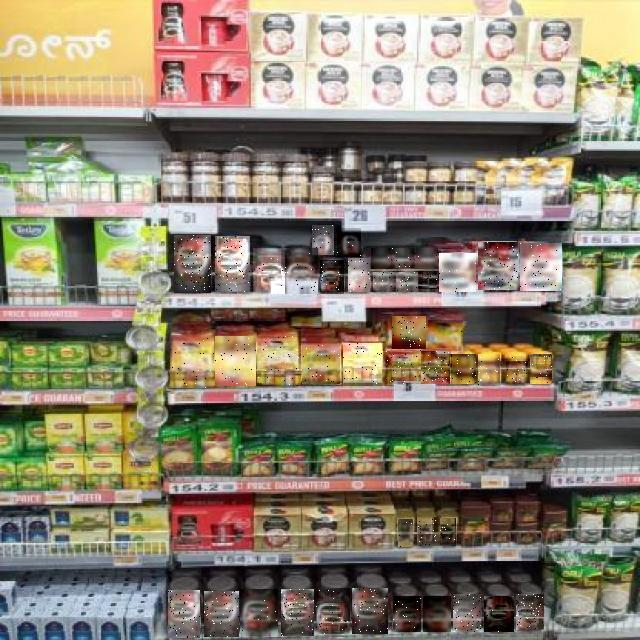Coffee: (171, 335, 215, 388), (174, 235, 211, 293), (258, 336, 299, 386), (215, 337, 256, 387), (520, 243, 562, 291), (215, 237, 250, 293), (479, 242, 519, 290), (240, 590, 278, 636), (352, 589, 388, 635), (343, 344, 382, 386), (204, 591, 239, 637), (316, 588, 350, 634), (281, 589, 314, 636), (168, 590, 200, 638), (285, 249, 318, 295), (440, 253, 478, 292), (302, 345, 340, 384), (253, 248, 285, 294), (386, 350, 422, 384), (392, 316, 426, 349), (484, 596, 514, 632), (453, 594, 481, 632), (422, 351, 454, 384), (516, 595, 544, 631), (423, 596, 451, 632), (393, 597, 421, 633), (428, 320, 463, 348), (321, 260, 345, 294), (348, 259, 370, 293), (478, 354, 500, 386), (337, 228, 361, 257), (453, 354, 476, 384), (312, 225, 334, 255), (531, 354, 553, 384), (506, 356, 528, 386), (418, 517, 438, 546), (416, 248, 438, 269), (441, 519, 457, 547), (392, 249, 414, 269), (397, 273, 419, 293), (371, 248, 391, 269), (418, 272, 439, 292), (398, 519, 413, 547), (374, 273, 396, 291)
